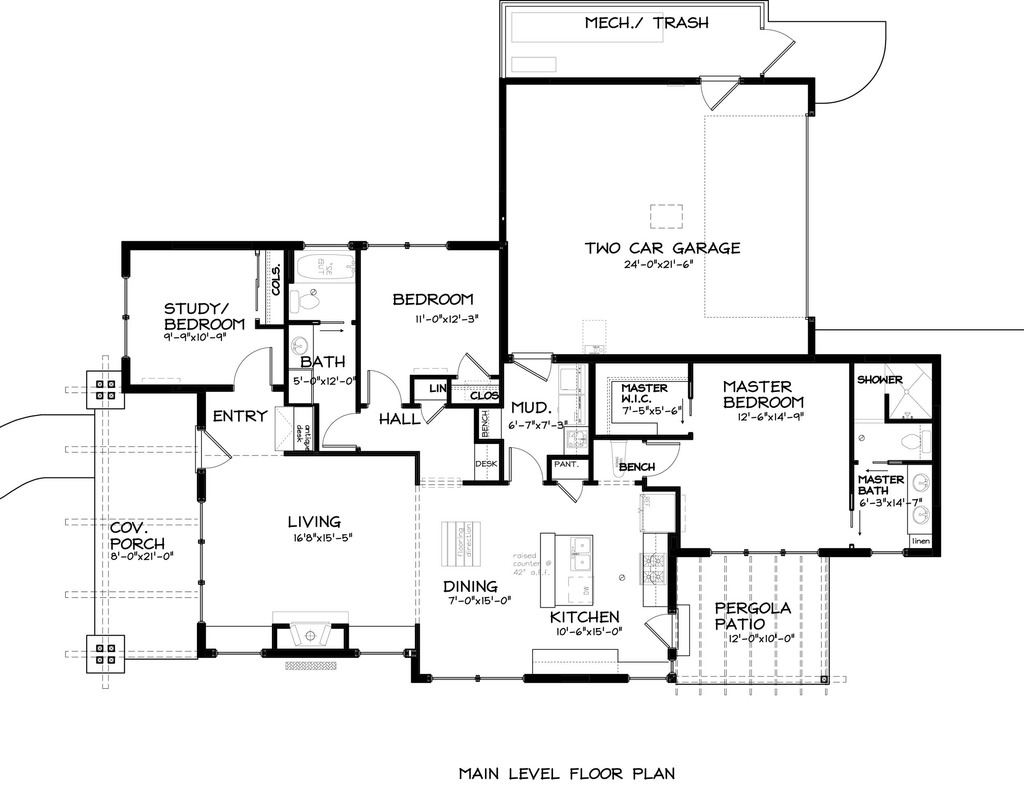door: (227, 345, 281, 400), (355, 359, 406, 412), (187, 427, 237, 478), (315, 403, 361, 454), (643, 605, 690, 651), (701, 62, 742, 112), (507, 340, 553, 384), (496, 444, 542, 484), (449, 342, 493, 383), (757, 26, 790, 79), (646, 436, 681, 478), (559, 473, 589, 509), (415, 399, 442, 429)
large_sink: (879, 425, 938, 460), (286, 283, 322, 317)
small_sink: (904, 466, 933, 528), (289, 325, 317, 370)
tub: (290, 249, 361, 282)
twin_sink: (565, 536, 596, 572)
